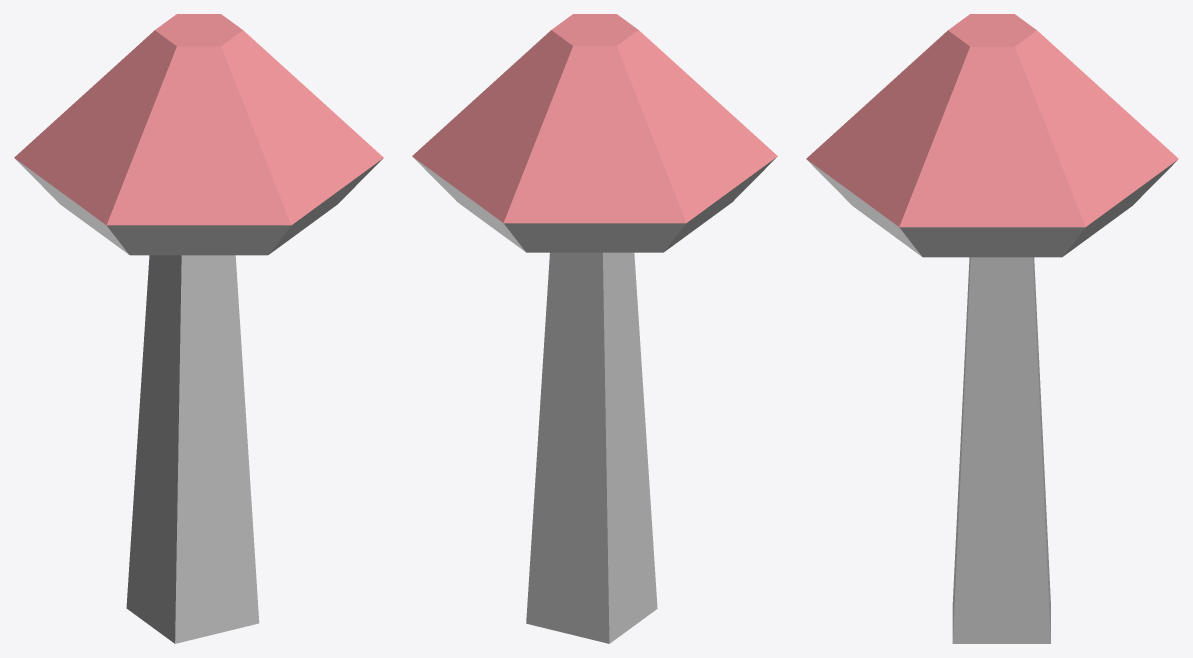
Rendered from mushroom_redTall.glb.
3 views of the same model, side by side, from view 1: azimuth 30°, elevation 25°; view 2: azimuth 150°, elevation 25°; view 3: azimuth 270°, elevation 25° (orthographic).
Parts seen in each view (by area): view 1: mushroom_redTall; view 2: mushroom_redTall; view 3: mushroom_redTall.
Part boxes in pixels (x1=…): mushroom_redTall: x1=14, y1=14, x2=383, y2=643; mushroom_redTall: x1=412, y1=14, x2=777, y2=643; mushroom_redTall: x1=806, y1=14, x2=1178, y2=643.
Size of the model in its own units: 0.1235 by 0.2505 by 0.1426.
